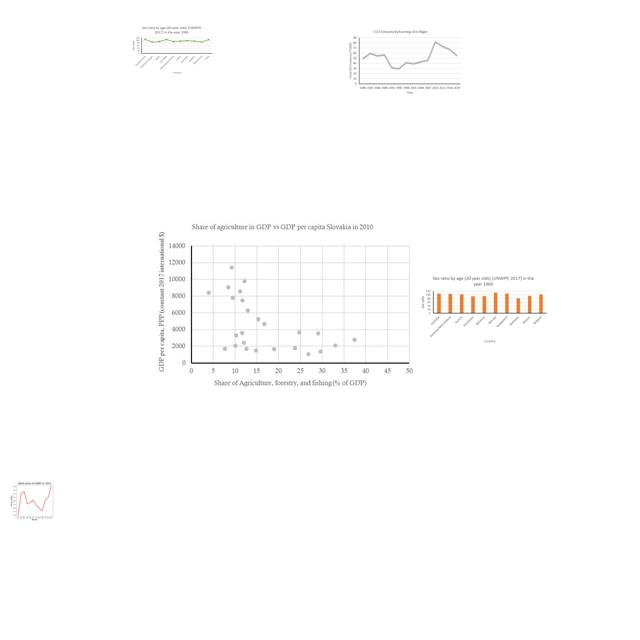Graph: (152, 214, 416, 391), (419, 274, 548, 344), (347, 29, 462, 96), (130, 24, 214, 76), (7, 480, 61, 521)
